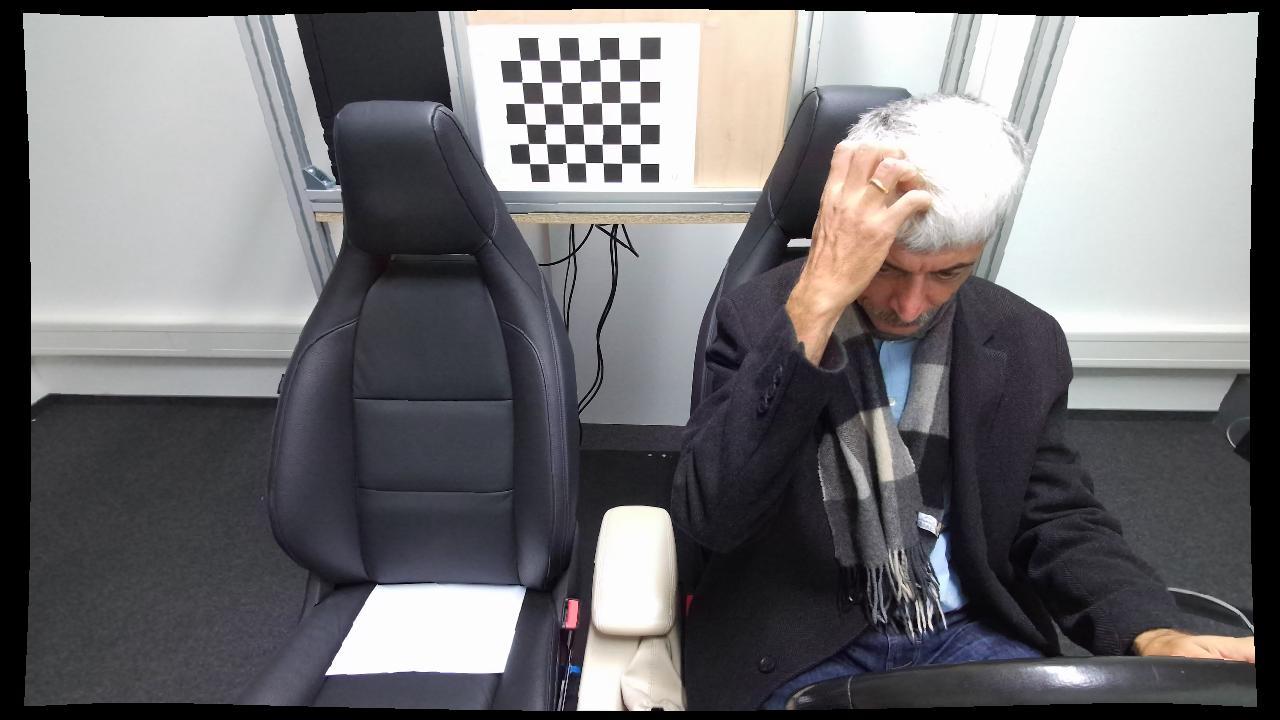Distracted: (665, 92, 1093, 712)
